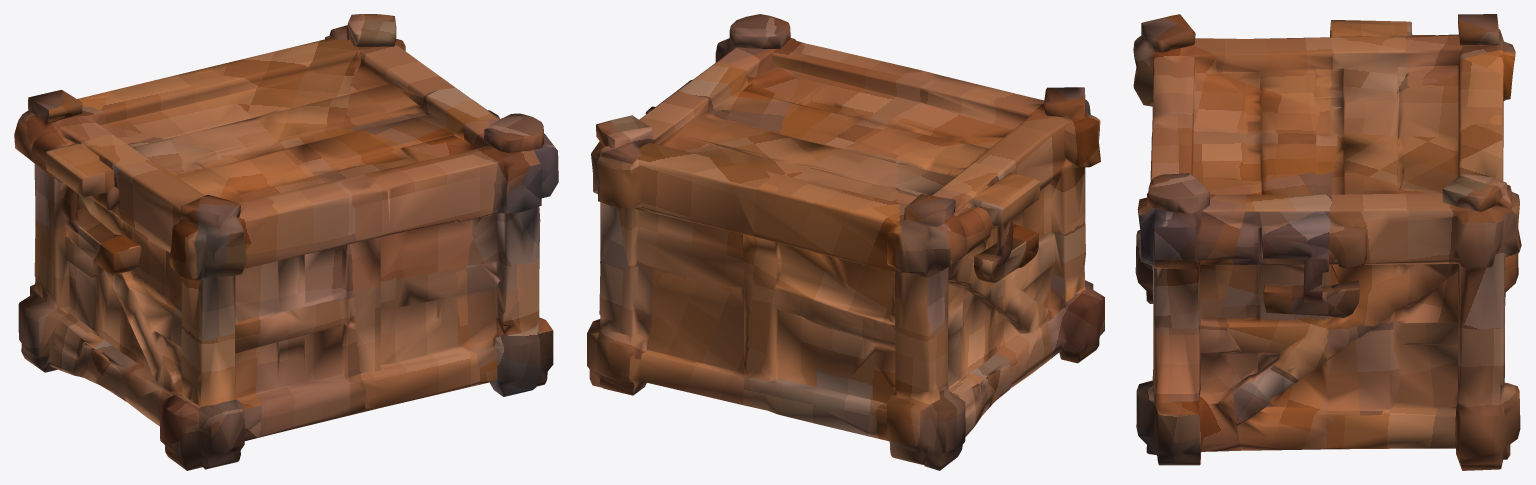
The model's file is fallback_crate.glb.
The picture shows the model from 3 angles, left to right: view 1: azimuth 30°, elevation 25°; view 2: azimuth 150°, elevation 25°; view 3: azimuth 270°, elevation 25°; orthographic projection. The views are drawn at different scales.
Visible parts, largest first — view 1: tripo_node_6daada55-2662-4ce7-826b-64c22b0bc5f6; view 2: tripo_node_6daada55-2662-4ce7-826b-64c22b0bc5f6; view 3: tripo_node_6daada55-2662-4ce7-826b-64c22b0bc5f6.
Part boxes in pixels (x1,y1,x2,y2): tripo_node_6daada55-2662-4ce7-826b-64c22b0bc5f6: [14, 14, 558, 470]; tripo_node_6daada55-2662-4ce7-826b-64c22b0bc5f6: [587, 14, 1104, 470]; tripo_node_6daada55-2662-4ce7-826b-64c22b0bc5f6: [1133, 14, 1521, 470].
Size of the model in its own units: 0.9991 by 0.6175 by 0.7853.
1 material, 1 textured.
